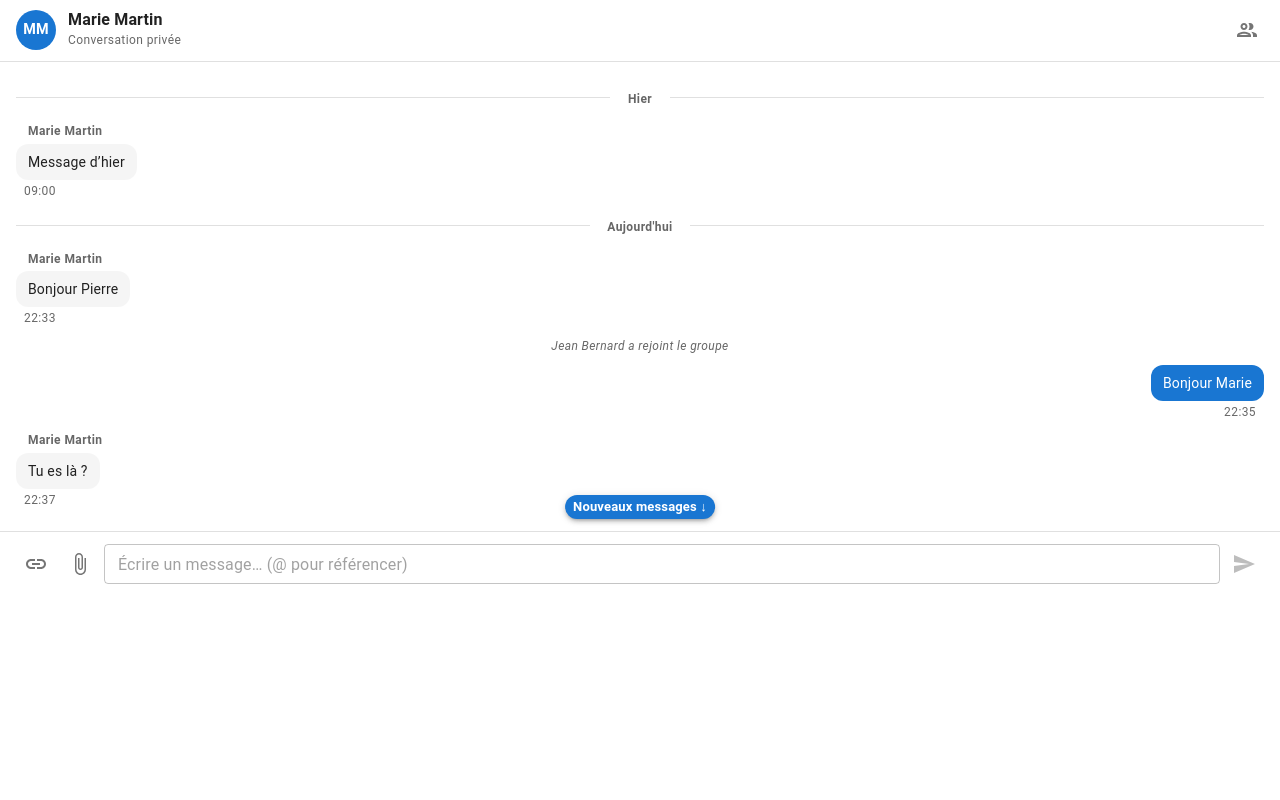
Test: ConversationThread › propose « Nouveaux messages ↓ » quand un message arrive alors que je ne suis pas en bas
The image size is (1280, 800).
Expected: the text "Bonjour Marie" is shown, [1151,365,1264,401]
Expected: the text "Tu es là ?" is shown, [16,453,100,489]
Click the button "Nouveaux messages ↓" at (640, 507), box [565,495,715,519]
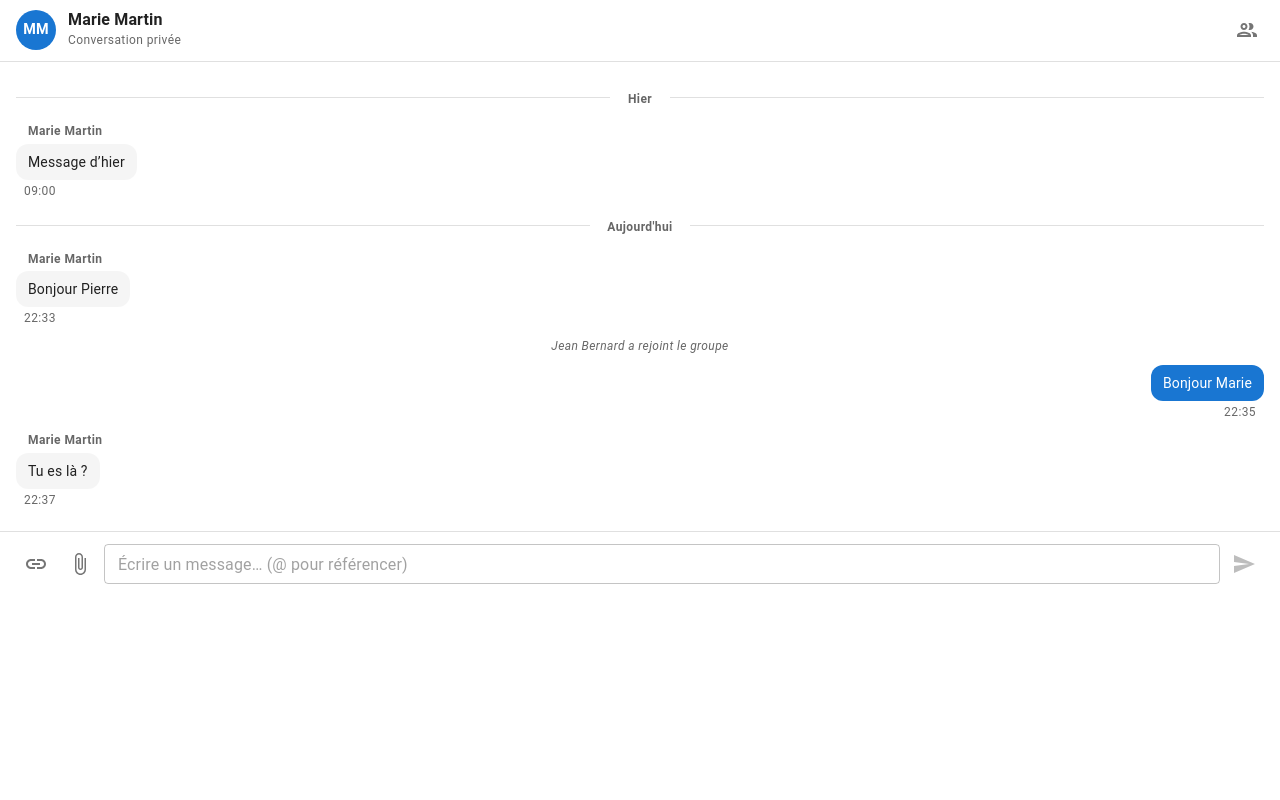
Now the button "Nouveaux messages ↓" is gone
